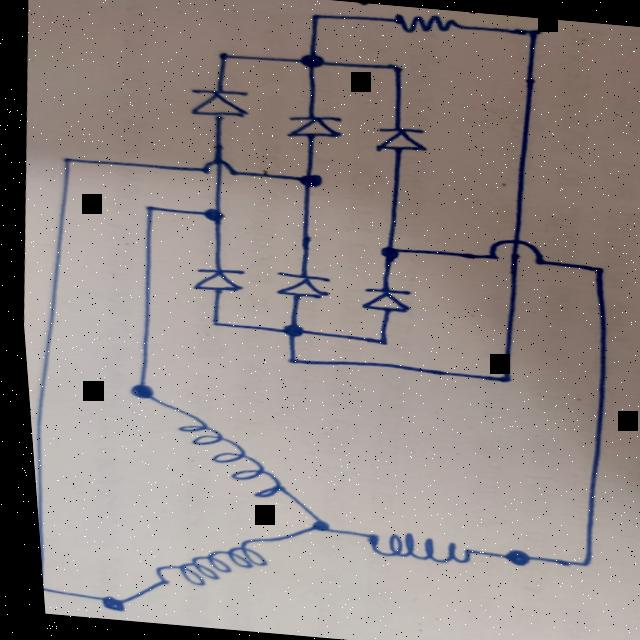crossover: (475, 236, 545, 268), (192, 158, 236, 179)
diode: (183, 86, 245, 119), (268, 268, 325, 300), (283, 111, 341, 142), (183, 264, 239, 295), (371, 125, 423, 154), (355, 285, 404, 315)
inductor: (160, 418, 287, 502), (140, 529, 259, 591), (350, 530, 463, 566)
junction: (510, 22, 553, 44), (282, 168, 322, 190), (115, 380, 151, 403), (374, 56, 411, 78), (487, 547, 523, 569), (289, 50, 325, 72), (269, 319, 302, 342), (206, 46, 242, 66), (299, 8, 333, 28), (481, 368, 513, 389), (576, 260, 611, 279), (367, 242, 399, 262), (190, 206, 223, 225), (47, 150, 80, 169), (131, 198, 162, 218), (295, 517, 327, 536), (87, 594, 117, 614), (271, 352, 301, 369), (561, 554, 589, 572), (361, 332, 389, 349), (198, 316, 227, 330), (34, 581, 45, 596)
resistor: (385, 9, 456, 37)
